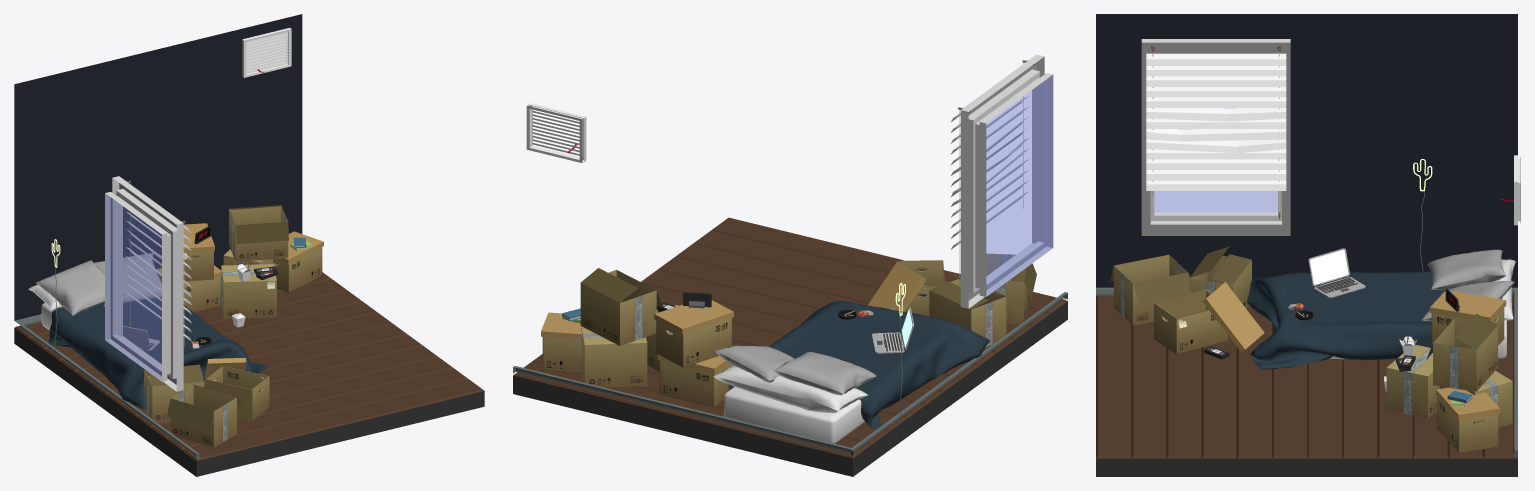
File: new-home 1.fbx
The picture shows the model from 3 angles, left to right: view 1: azimuth 30°, elevation 25°; view 2: azimuth 150°, elevation 25°; view 3: azimuth 270°, elevation 25°; orthographic projection. The views are drawn at different scales.
Visible parts, largest first — view 1: 3, 146, 629, 24, 164, 155, 52, 592, 570, 34, 616, 640 (+9 smaller); view 2: 146, 24, 164, 629, 155, 52, 592, 616, 570, 177, 79, 199 (+8 smaller); view 3: 3, 146, 70, 164, 629, 155, 43, 616, 592, 570, 24, 640 (+11 smaller).
Part boxes in pixels (x1,y1,x2,y2): 3: (14, 14, 302, 320); 146: (14, 272, 484, 460); 629: (144, 206, 288, 447); 24: (105, 193, 161, 381); 164: (46, 297, 270, 409); 155: (14, 328, 484, 476); 52: (105, 189, 176, 381); 592: (159, 247, 322, 419); 570: (36, 253, 161, 315); 34: (112, 39, 243, 391); 616: (156, 223, 323, 384); 640: (144, 364, 245, 429); 146: (513, 217, 1067, 458); 24: (986, 75, 1053, 296); 164: (728, 301, 989, 429); 629: (580, 253, 1029, 387); 155: (513, 301, 1067, 476); 52: (968, 69, 1053, 296); 592: (542, 260, 944, 407); 616: (541, 261, 926, 373); 570: (715, 345, 876, 395); 177: (724, 387, 864, 443); 79: (513, 292, 1067, 453); 199: (713, 365, 867, 413); 3: (1096, 14, 1517, 287); 146: (1096, 296, 1517, 458); 70: (1146, 53, 1286, 190); 164: (1247, 271, 1445, 369); 629: (1113, 254, 1512, 427); 155: (1096, 458, 1517, 476); 43: (1141, 42, 1290, 235); 616: (1202, 282, 1506, 420); 592: (1154, 289, 1504, 452); 570: (1422, 249, 1514, 321); 24: (1154, 108, 1277, 212); 640: (1110, 246, 1251, 306).
Bounding box in the file's own units: 301 × 249 × 319.
